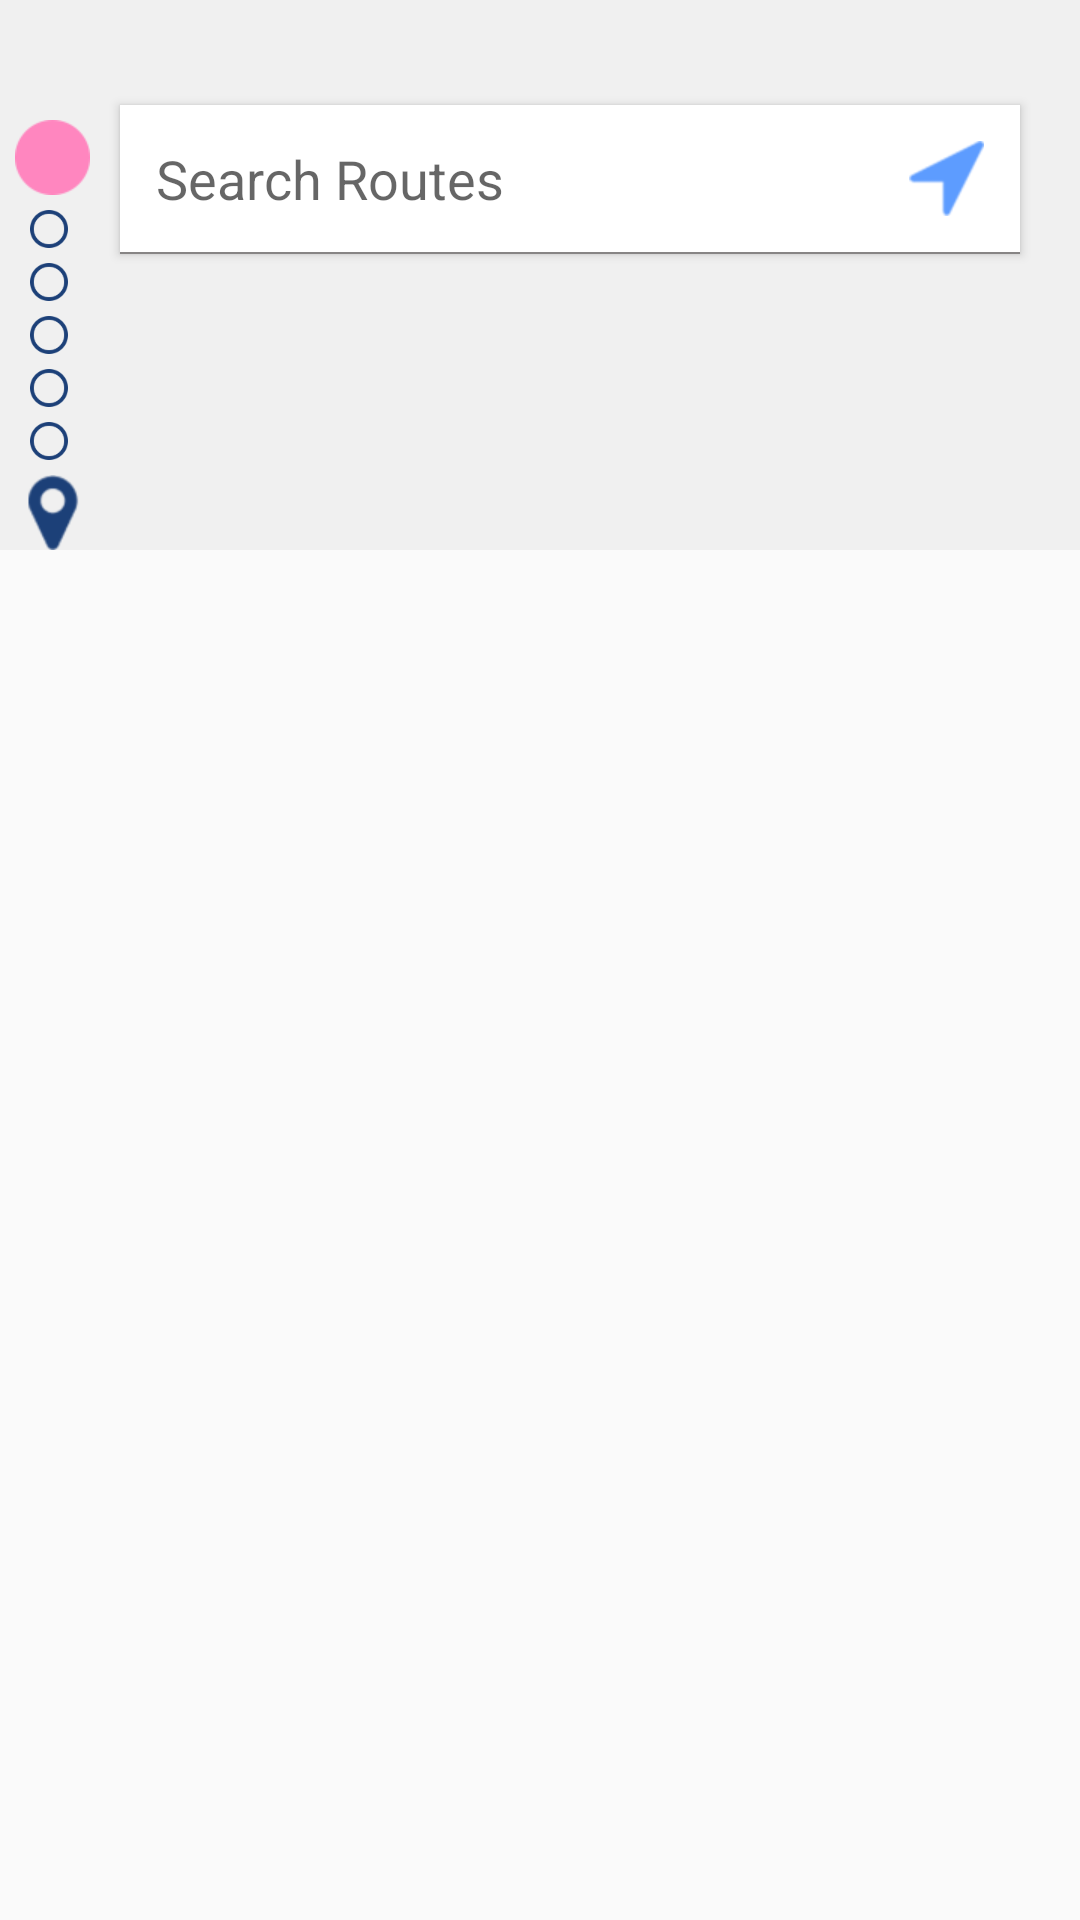

Screen size 1080x1920. Icon name, then its center in pixels as [x,y]:
dot: [52,157]
